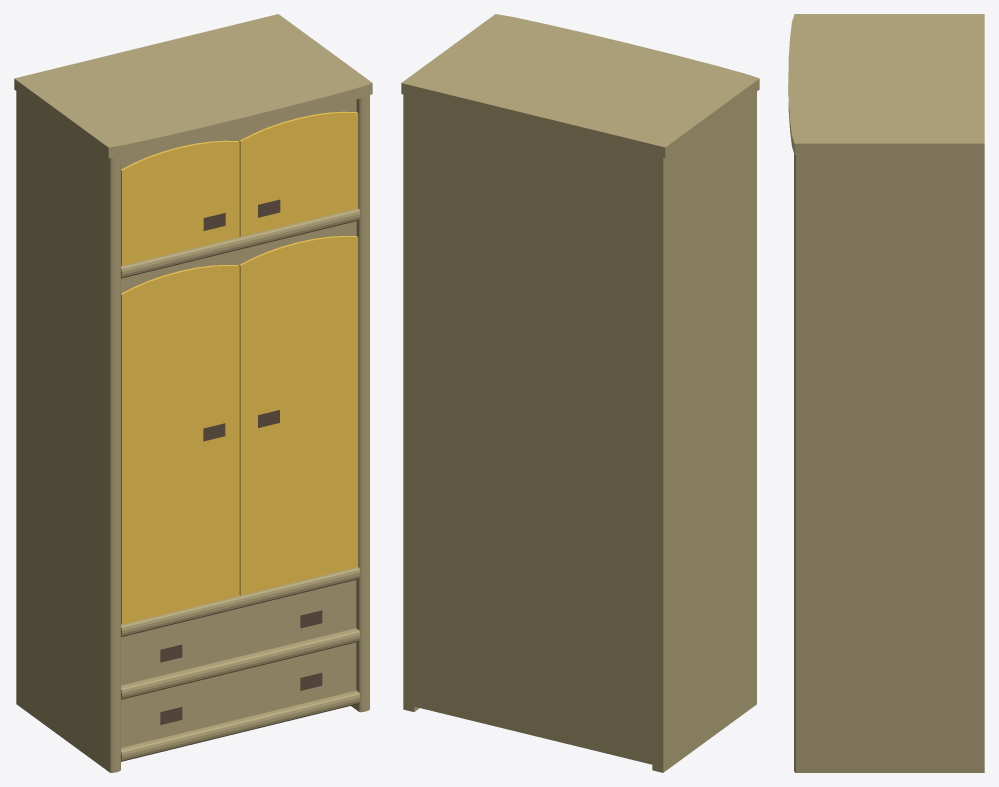
The model's file is Wardrobe.FBX.
3 views of the same model, side by side, from view 1: azimuth 30°, elevation 25°; view 2: azimuth 150°, elevation 25°; view 3: azimuth 270°, elevation 25° (orthographic).
Visible parts, largest first — view 1: Group12; view 2: Group12; view 3: Group12.
Part boxes in pixels (bbox=[...]): Group12: bbox=[14, 14, 372, 772]; Group12: bbox=[401, 14, 759, 772]; Group12: bbox=[788, 14, 984, 772].
Size of the model in its own units: 236 by 535 by 151.
